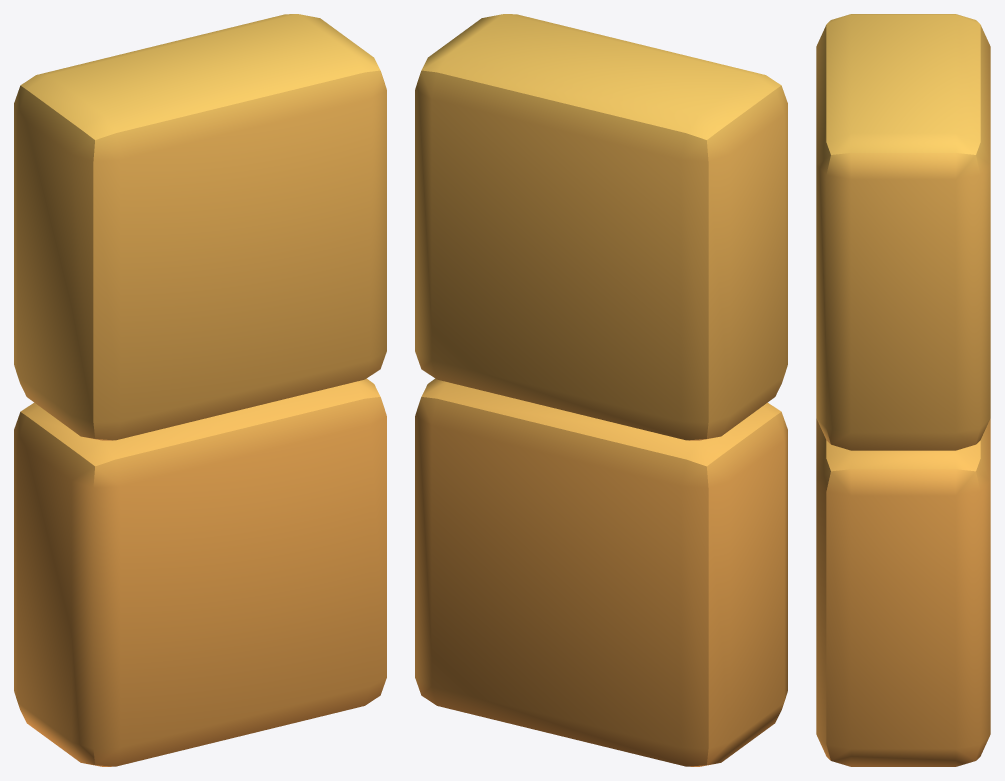
Rendered from barrier_2x1x4_yellow.glb.
3 renders of one model, left to right at view 1: azimuth 30°, elevation 25°; view 2: azimuth 150°, elevation 25°; view 3: azimuth 270°, elevation 25°, orthographic. The views are drawn at different scales.
Visible parts, largest first — view 1: barrier_2x1x4_yellow; view 2: barrier_2x1x4_yellow; view 3: barrier_2x1x4_yellow.
Boxes of the visible parts, <box> form: barrier_2x1x4_yellow: <box>14,14,386,766</box>; barrier_2x1x4_yellow: <box>415,14,787,766</box>; barrier_2x1x4_yellow: <box>816,14,990,766</box>.
Bounding box in the file's own units: 2 × 4 × 1.
1 material, 1 textured.
